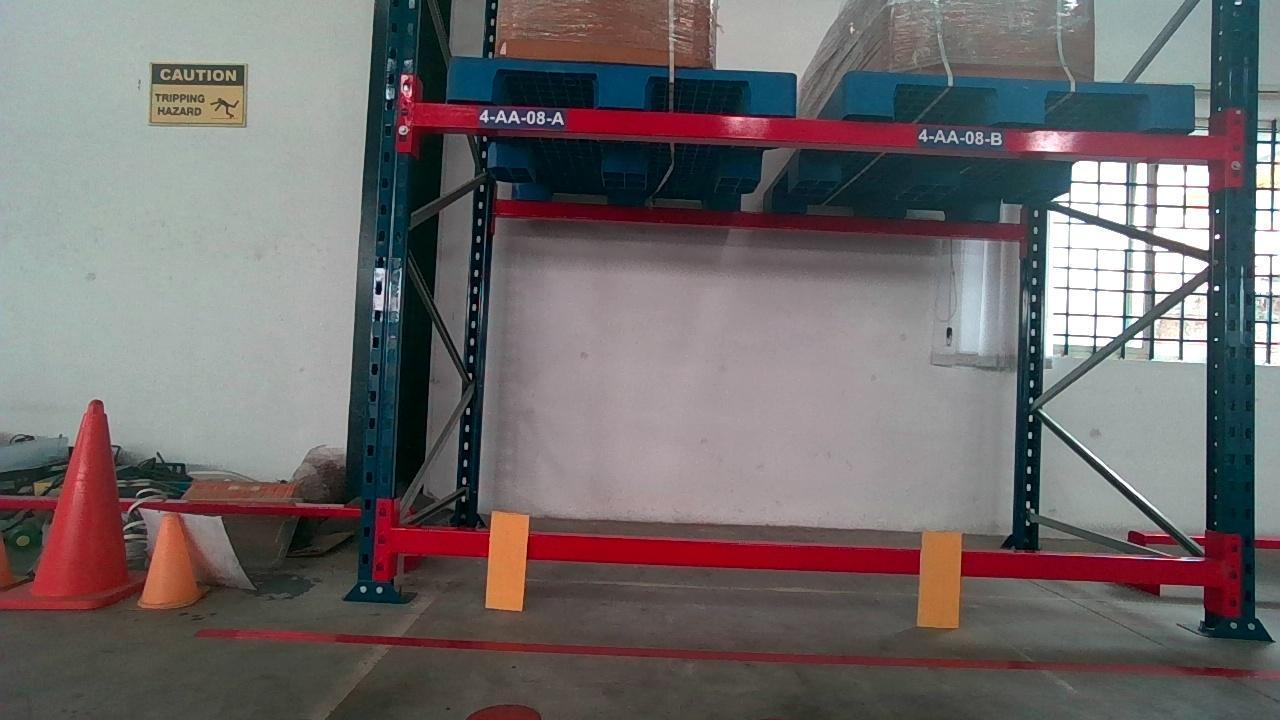h_rack: (391, 532, 1224, 582), (420, 107, 1229, 152)
orange_strip: (918, 529, 962, 627), (485, 510, 528, 607)
small_pallet: (726, 94, 1174, 140), (845, 77, 1194, 125), (451, 61, 793, 108)
